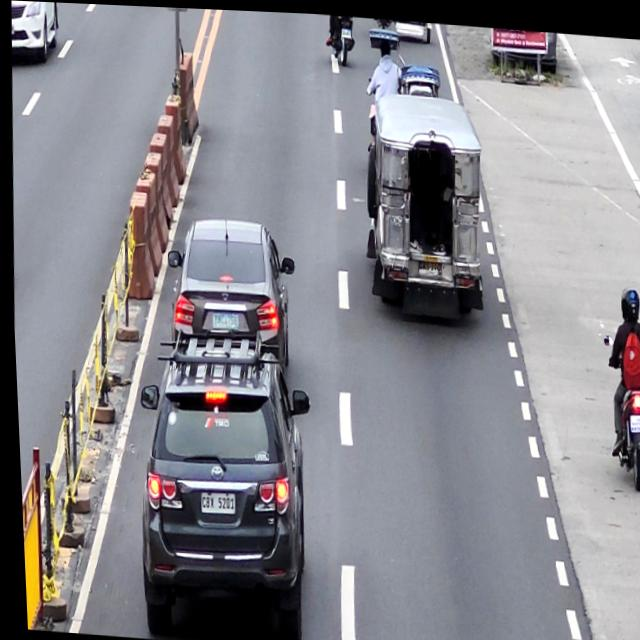Car: (124, 334, 316, 640), (161, 213, 297, 379)
Jeep: (354, 88, 489, 317)
License-Plate: (195, 491, 233, 515), (208, 309, 237, 327), (415, 256, 440, 273), (624, 408, 640, 426)
Motorcycle: (596, 324, 640, 489)
Tricycle: (364, 24, 444, 95)
